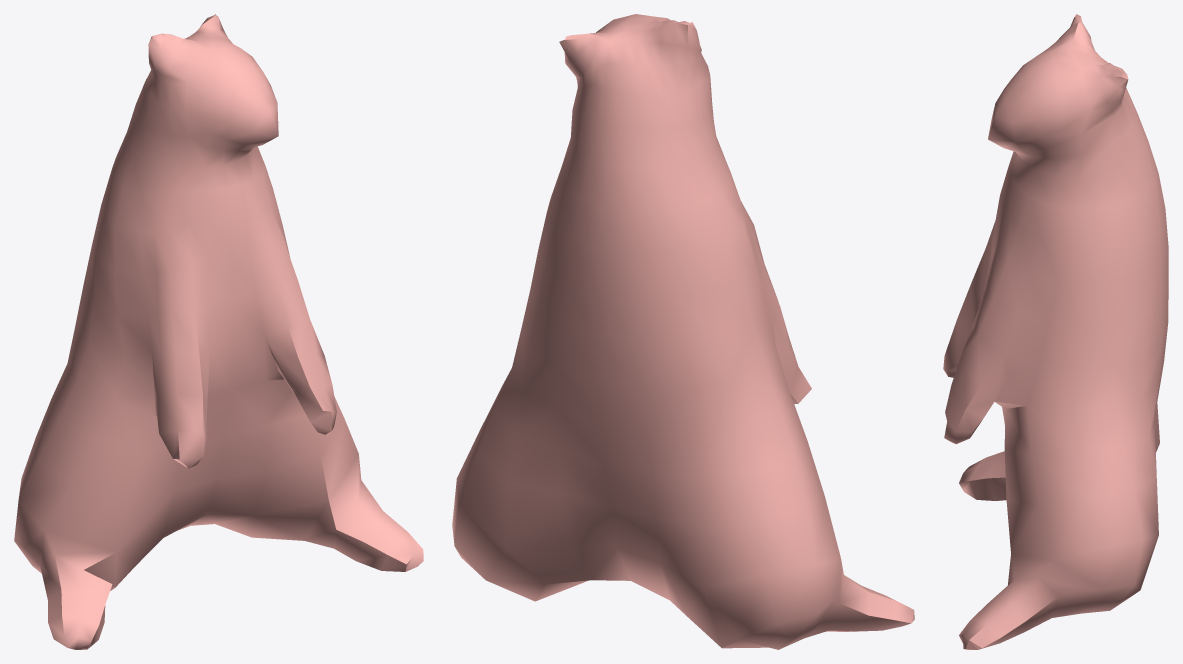
The picture shows the model from 3 angles, left to right: view 1: azimuth 30°, elevation 25°; view 2: azimuth 150°, elevation 25°; view 3: azimuth 270°, elevation 25°; orthographic projection. The views are drawn at different scales.
Visible parts, largest first — view 1: polySurface1_lambert2_0; view 2: polySurface1_lambert2_0; view 3: polySurface1_lambert2_0.
Boxes of the visible parts, x1=… form: polySurface1_lambert2_0: x1=14, y1=14, x2=423, y2=649; polySurface1_lambert2_0: x1=452, y1=14, x2=914, y2=649; polySurface1_lambert2_0: x1=943, y1=14, x2=1168, y2=649.
Bounding box in the file's own units: 0.709 × 1 × 0.3801.
